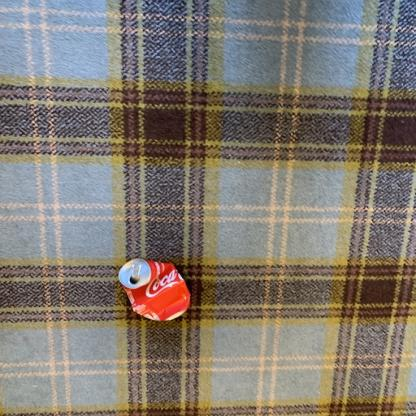trash: (115, 256, 191, 324)
